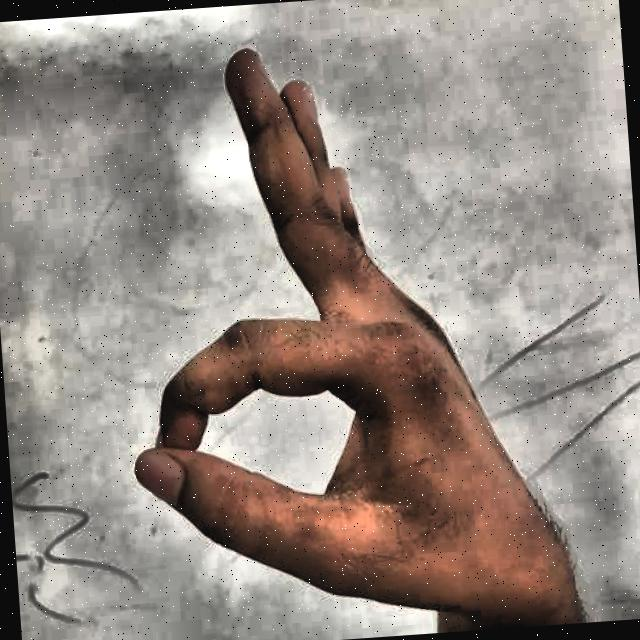Ca: (92, 7, 590, 640)
